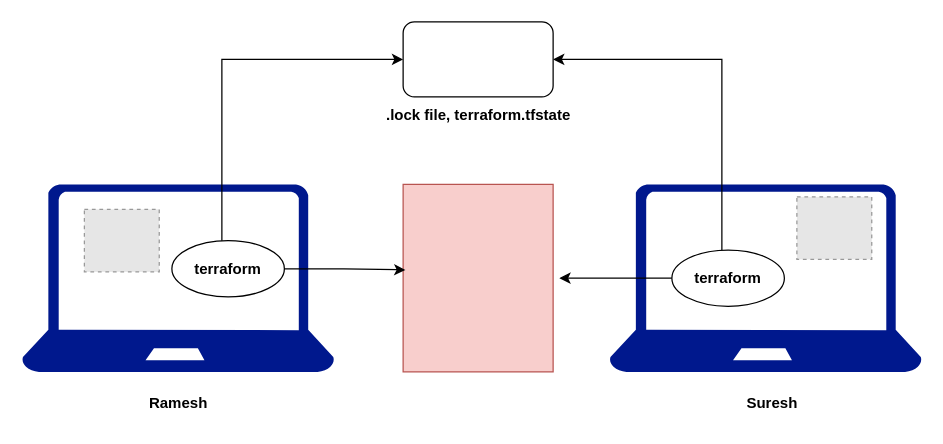
This 943x444 diagram has some shape labels left out. Grey dashed boxes stand in for pictures. The centre of each missing label's shape, as x and y in pixels:
"AWS Account" goes at point (477, 277).
"Remote state" goes at point (477, 59).
